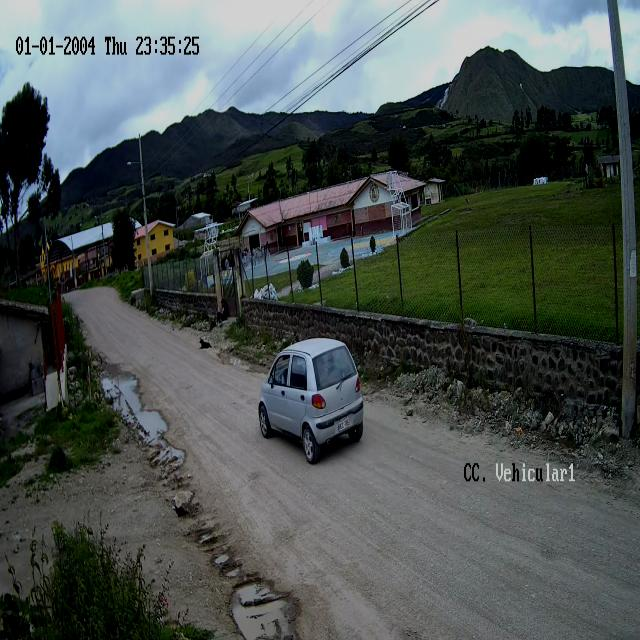SED: (257, 339, 365, 464)
